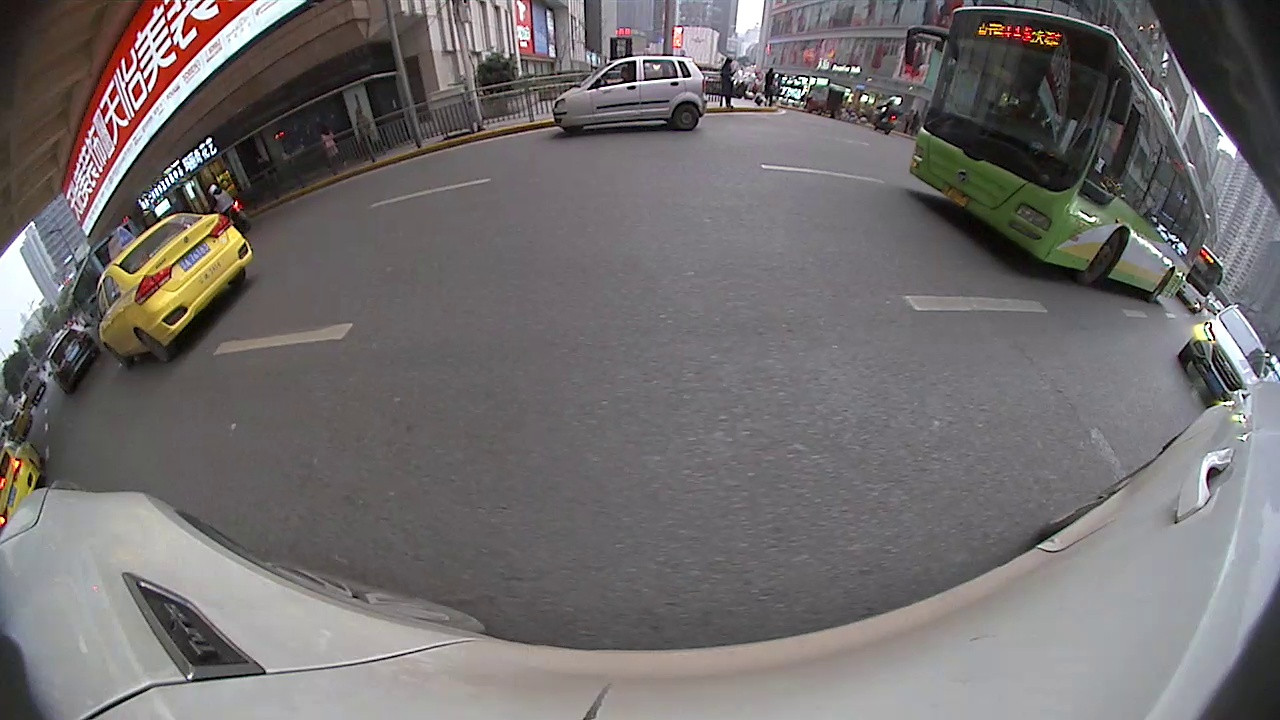bus: (903, 9, 1208, 300), (1174, 249, 1229, 314)
car: (92, 207, 252, 377), (546, 57, 713, 140), (1177, 302, 1274, 411), (49, 327, 102, 388)
front: (1086, 225, 1124, 293)
rear: (132, 331, 171, 363), (673, 104, 702, 129)
